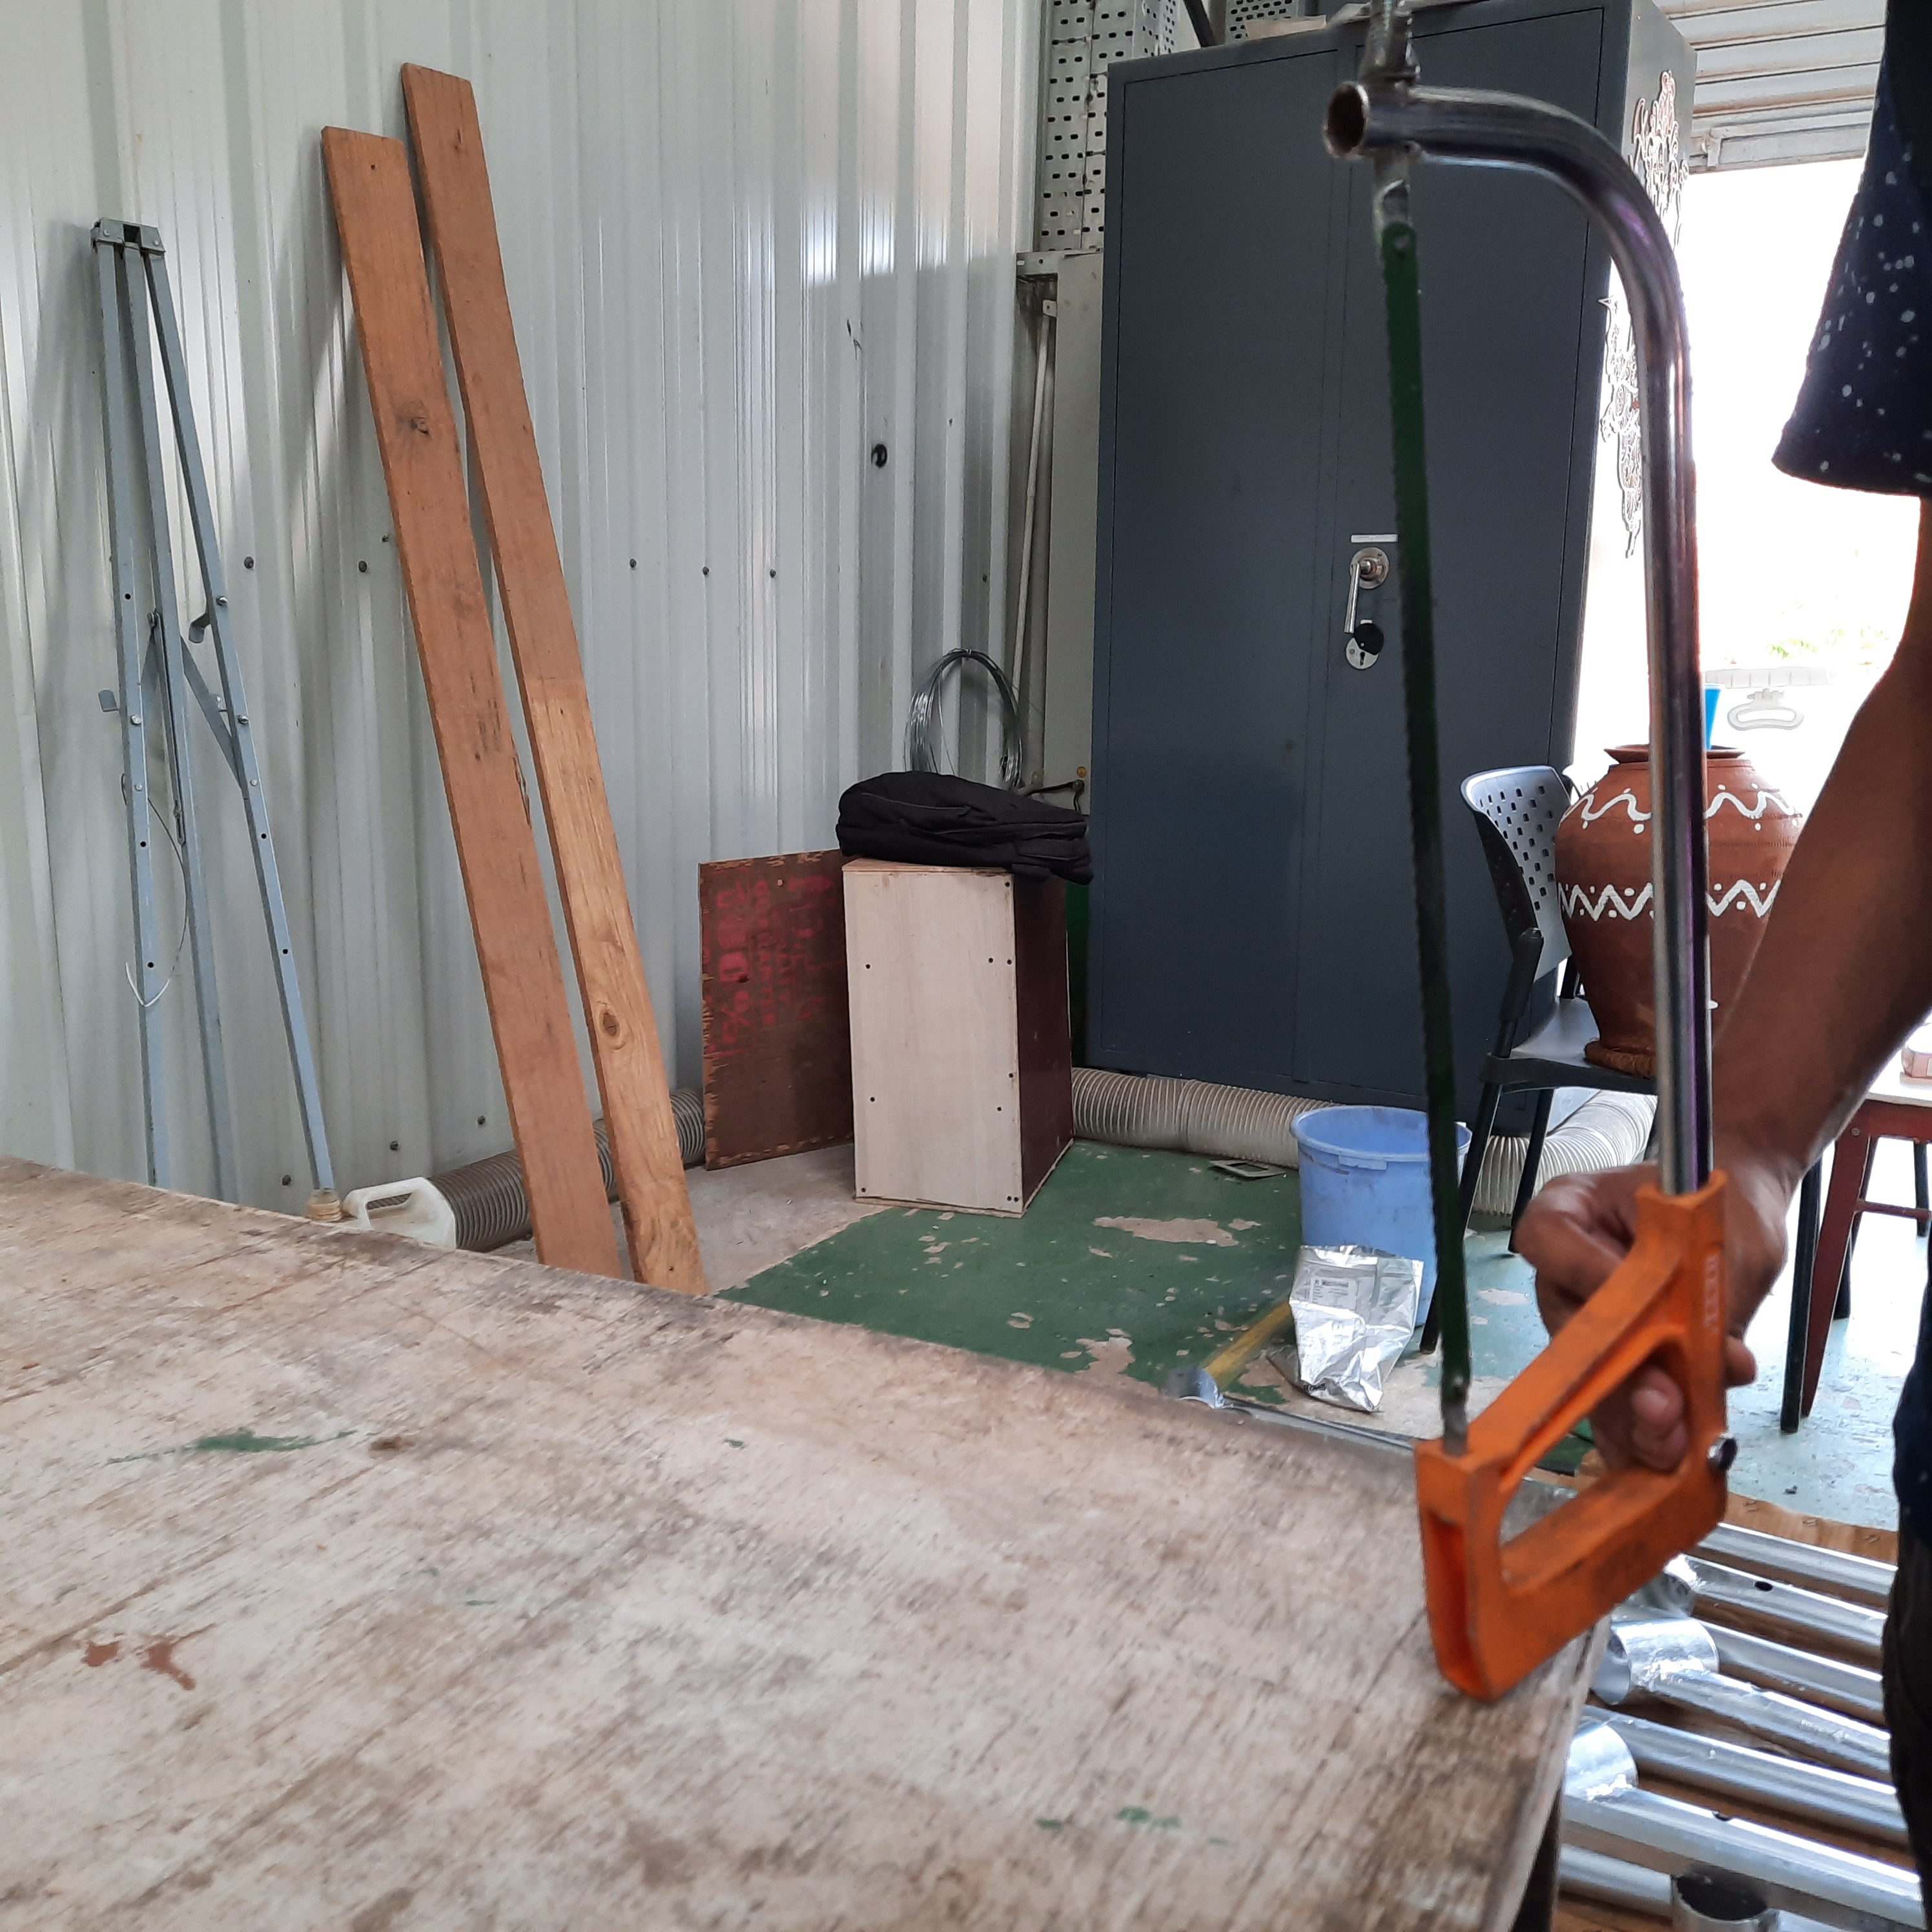Hexaframe: (1302, 9, 1755, 1702)
